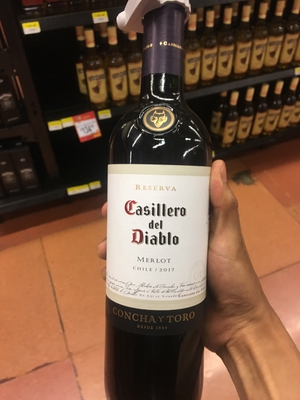casillero del diablo merlot: (97, 21, 209, 398)
